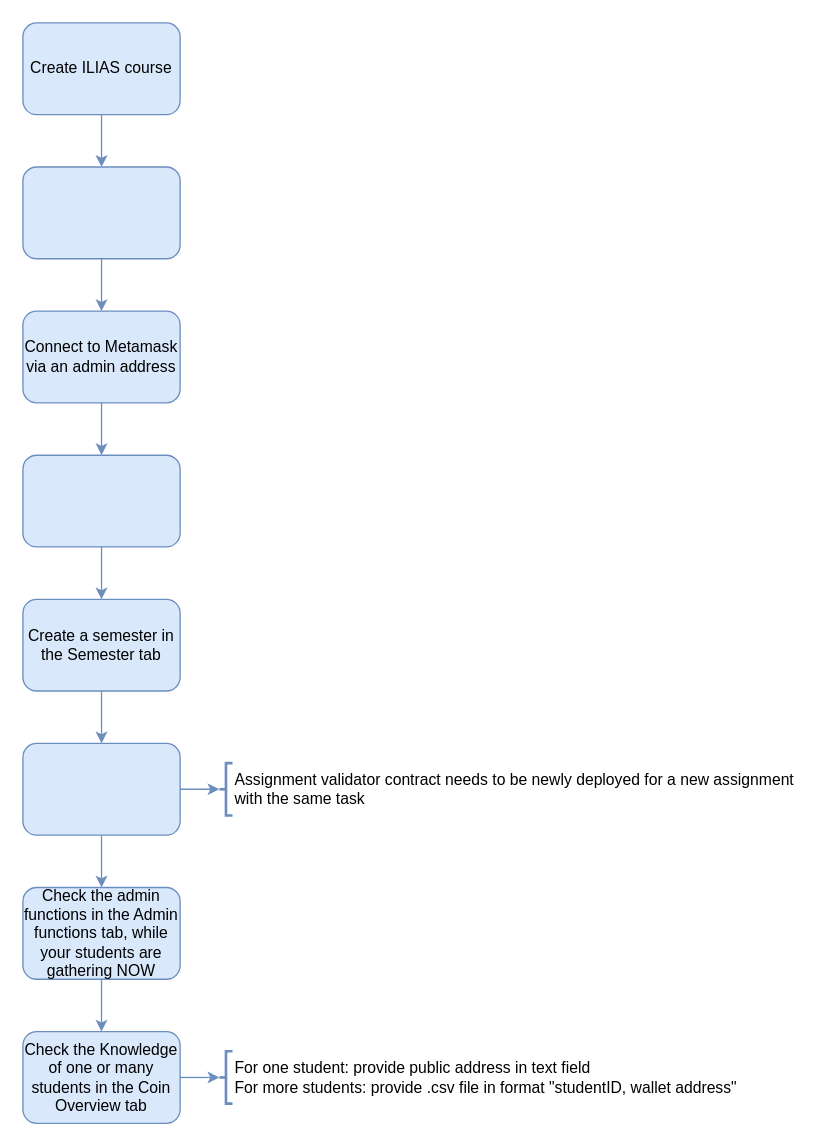
The diagram is 817 pixels wide and 1146 high, and some of its shapes have lost their labels. The centre of each missing label's shape, as x and y in pixels:
"Create ILIAS survey to gather student data: Student ID, public address of wallet" goes at (101,212).
"Create the assignments for the semester in the Assignments tab" goes at (101,788).
"Go to the faucet to get Eth" goes at (101,500).
